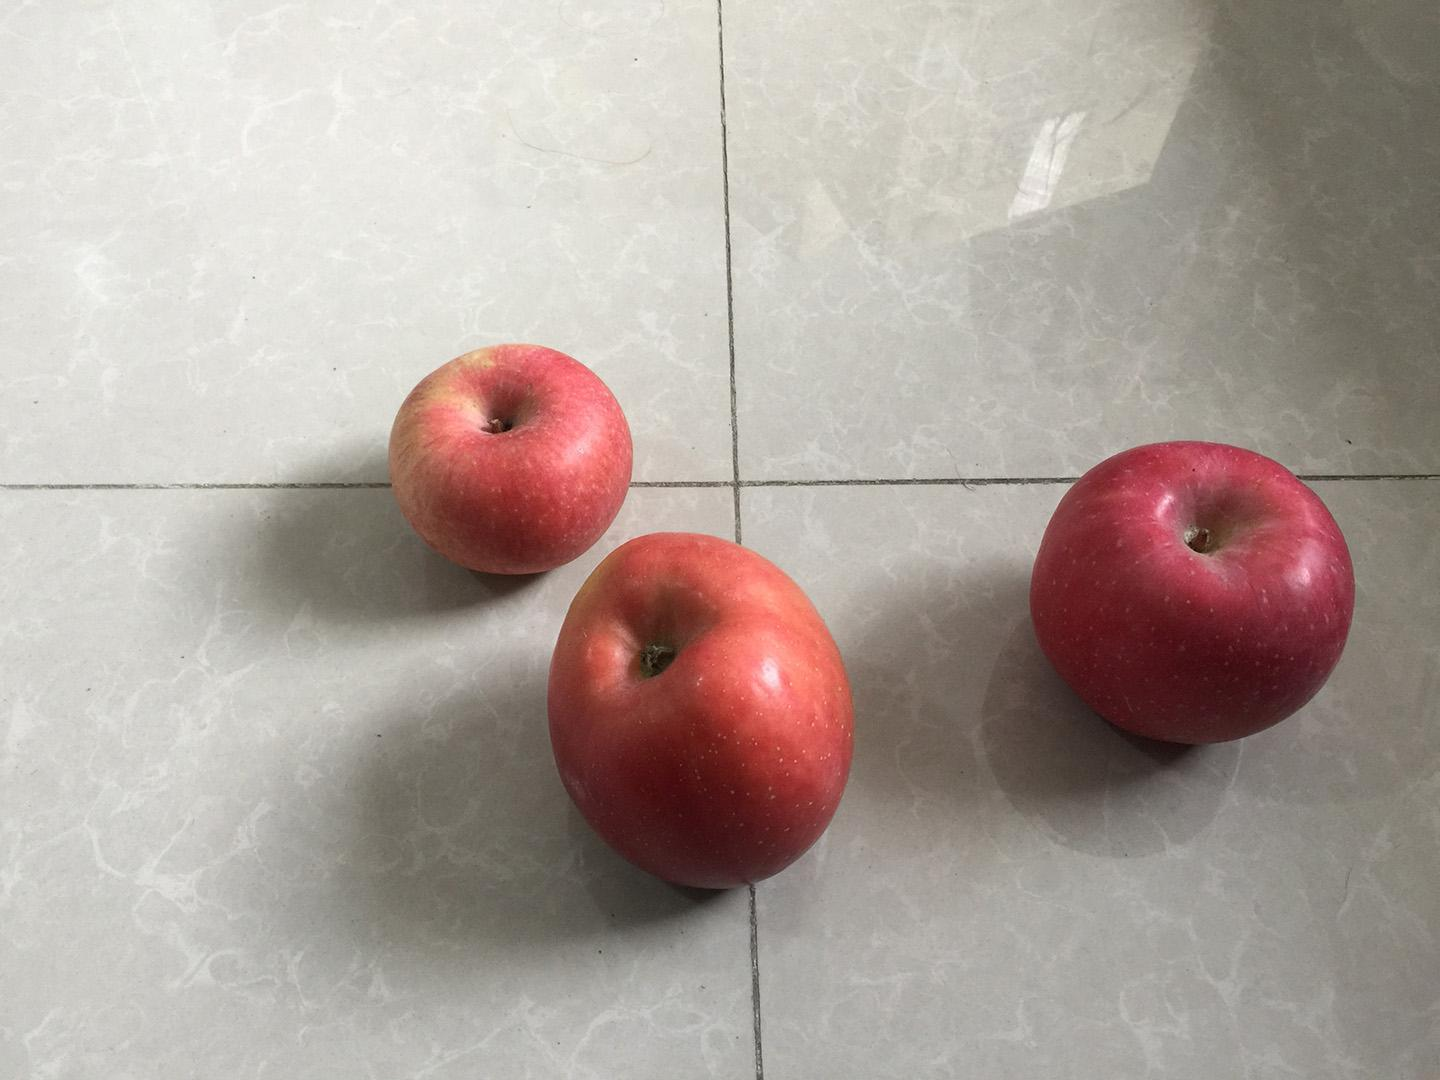apple: (540, 524, 863, 897), (1010, 433, 1365, 752), (371, 335, 644, 582)
